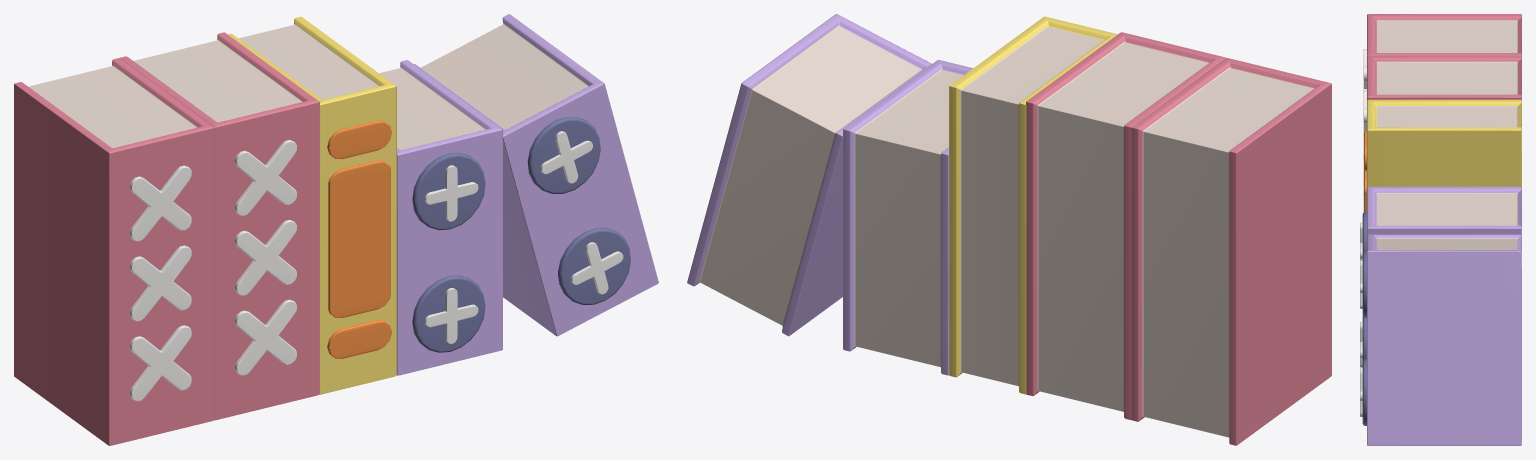
The model's file is Book_4.glb.
3 renders of one model, left to right at view 1: azimuth 30°, elevation 25°; view 2: azimuth 150°, elevation 25°; view 3: azimuth 270°, elevation 25°, orthographic. The views are drawn at different scales.
Visible parts, largest first — view 1: Books_2; view 2: Books_2; view 3: Books_2.
Boxes of the visible parts, bbox=[...] form: Books_2: bbox=[14, 14, 658, 445]; Books_2: bbox=[687, 14, 1331, 445]; Books_2: bbox=[1360, 14, 1521, 445].
Size of the model in its own units: 0.7213 by 0.3679 by 0.2266.
Materials: 1 (1 with a texture image).
